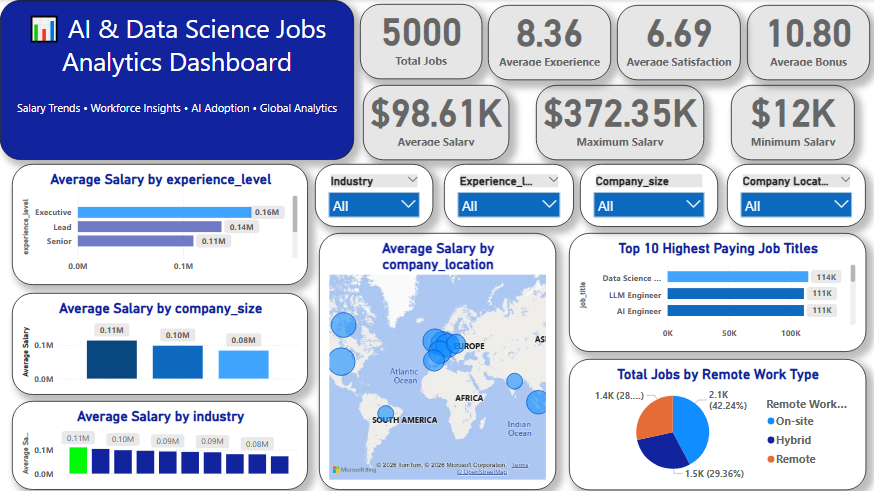

The dashboard page shown, as its layout file describes it:
{"tool":"powerbi","page":{"name":"Page 1","canvas":[1280,720],"ordinal":0},"visuals":[{"type":"textbox","box":[0,0,517.7,234],"z":0},{"type":"card","fields":{"Values":["featured_ai_ds_jobs.Total Jobs"]},"box":[526.8,5.9,178.5,109.8],"z":1000},{"type":"card","fields":{"Values":["featured_ai_ds_jobs.Average Salary"]},"box":[531.2,124.4,213.7,109.8],"z":2000},{"type":"card","fields":{"Values":["featured_ai_ds_jobs.Maximum Salary"]},"box":[784.4,124.4,245.9,109.8],"z":2001},{"type":"card","fields":{"Values":["featured_ai_ds_jobs.Minimum Salary"]},"box":[1069.8,124.4,181.5,109.8],"z":2002},{"type":"card","fields":{"Values":["featured_ai_ds_jobs.Average Experience"]},"box":[714.1,7.3,180,109.8],"z":2003},{"type":"card","fields":{"Values":["featured_ai_ds_jobs.Average Bonus"]},"box":[1093.2,7.3,180,109.8],"z":2004},{"type":"clusteredBarChart","fields":{"Category":["featured_ai_ds_jobs.experience_level"],"Y":["featured_ai_ds_jobs.Average Salary"]},"box":[17.6,240,433.2,177.1],"z":2005},{"type":"clusteredColumnChart","fields":{"Category":["featured_ai_ds_jobs.company_size"],"Y":["featured_ai_ds_jobs.Average Salary"]},"box":[17.6,428.8,433.2,149.3],"z":2006},{"type":"clusteredBarChart","title":"Top 10 Highest Paying Job Titles","fields":{"Category":["featured_ai_ds_jobs.job_title"],"Y":["featured_ai_ds_jobs.Average Salary"]},"box":[832.7,341,434.6,174.1],"z":2007},{"type":"columnChart","fields":{"Category":["featured_ai_ds_jobs.industry"],"Y":["featured_ai_ds_jobs.Average Salary"]},"box":[17.6,586.8,433.2,130.2],"z":2008},{"type":"pieChart","fields":{"Y":["featured_ai_ds_jobs.Total Jobs"],"Category":["featured_ai_ds_jobs.Remote Work Type"]},"box":[832.7,525.4,434.6,191.7],"z":2009},{"type":"map","fields":{"Category":["featured_ai_ds_jobs.company_location"],"Size":["featured_ai_ds_jobs.Average Salary"]},"box":[466.8,341,346.8,376.1],"z":2010},{"type":"card","fields":{"Values":["featured_ai_ds_jobs.Average Satisfaction"]},"box":[902.9,7.3,181.5,109.8],"z":2011},{"type":"slicer","fields":{"Values":["featured_ai_ds_jobs.experience_level"]},"box":[649.8,240,190.2,92.2],"z":2012},{"type":"slicer","fields":{"Values":["featured_ai_ds_jobs.company_size"]},"box":[848.8,240,202,92.2],"z":2013},{"type":"slicer","fields":{"Values":["featured_ai_ds_jobs.industry"]},"box":[461,240,172.7,92.2],"z":2014},{"type":"slicer","fields":{"Values":["featured_ai_ds_jobs.company_location"]},"box":[1063.9,240,203.4,92.2],"z":2015}]}

Visuals, with their boxes in screenshot pixels (x1, y1, x2, y2), scaled from the page's 1280x720 canvas onto the 874x491 screenshot:
textbox: {"x1": 0, "y1": 0, "x2": 353, "y2": 160}
card - featured_ai_ds_jobs.Total Jobs: {"x1": 360, "y1": 4, "x2": 482, "y2": 79}
card - featured_ai_ds_jobs.Average Salary: {"x1": 363, "y1": 85, "x2": 509, "y2": 160}
card - featured_ai_ds_jobs.Maximum Salary: {"x1": 536, "y1": 85, "x2": 704, "y2": 160}
card - featured_ai_ds_jobs.Minimum Salary: {"x1": 730, "y1": 85, "x2": 854, "y2": 160}
card - featured_ai_ds_jobs.Average Experience: {"x1": 488, "y1": 5, "x2": 611, "y2": 80}
card - featured_ai_ds_jobs.Average Bonus: {"x1": 746, "y1": 5, "x2": 869, "y2": 80}
clusteredBarChart - featured_ai_ds_jobs.experience_level x featured_ai_ds_jobs.Average Salary: {"x1": 12, "y1": 164, "x2": 308, "y2": 284}
clusteredColumnChart - featured_ai_ds_jobs.company_size x featured_ai_ds_jobs.Average Salary: {"x1": 12, "y1": 292, "x2": 308, "y2": 394}
"Top 10 Highest Paying Job Titles" clusteredBarChart: {"x1": 569, "y1": 233, "x2": 865, "y2": 351}
columnChart - featured_ai_ds_jobs.industry x featured_ai_ds_jobs.Average Salary: {"x1": 12, "y1": 400, "x2": 308, "y2": 489}
pieChart - featured_ai_ds_jobs.Total Jobs x featured_ai_ds_jobs.Remote Work Type: {"x1": 569, "y1": 358, "x2": 865, "y2": 489}
map - featured_ai_ds_jobs.company_location x featured_ai_ds_jobs.Average Salary: {"x1": 319, "y1": 233, "x2": 556, "y2": 489}
card - featured_ai_ds_jobs.Average Satisfaction: {"x1": 617, "y1": 5, "x2": 740, "y2": 80}
slicer - featured_ai_ds_jobs.experience_level: {"x1": 444, "y1": 164, "x2": 574, "y2": 227}
slicer - featured_ai_ds_jobs.company_size: {"x1": 580, "y1": 164, "x2": 717, "y2": 227}
slicer - featured_ai_ds_jobs.industry: {"x1": 315, "y1": 164, "x2": 433, "y2": 227}
slicer - featured_ai_ds_jobs.company_location: {"x1": 726, "y1": 164, "x2": 865, "y2": 227}
